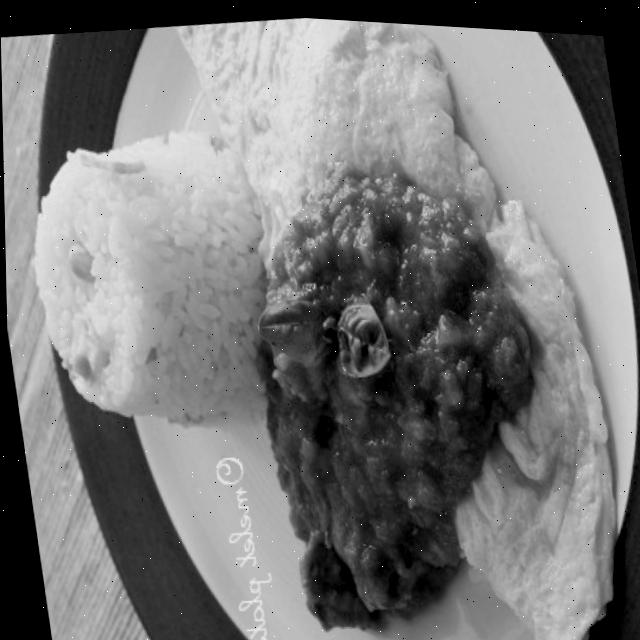鸡蛋料理: (163, 8, 640, 640)
